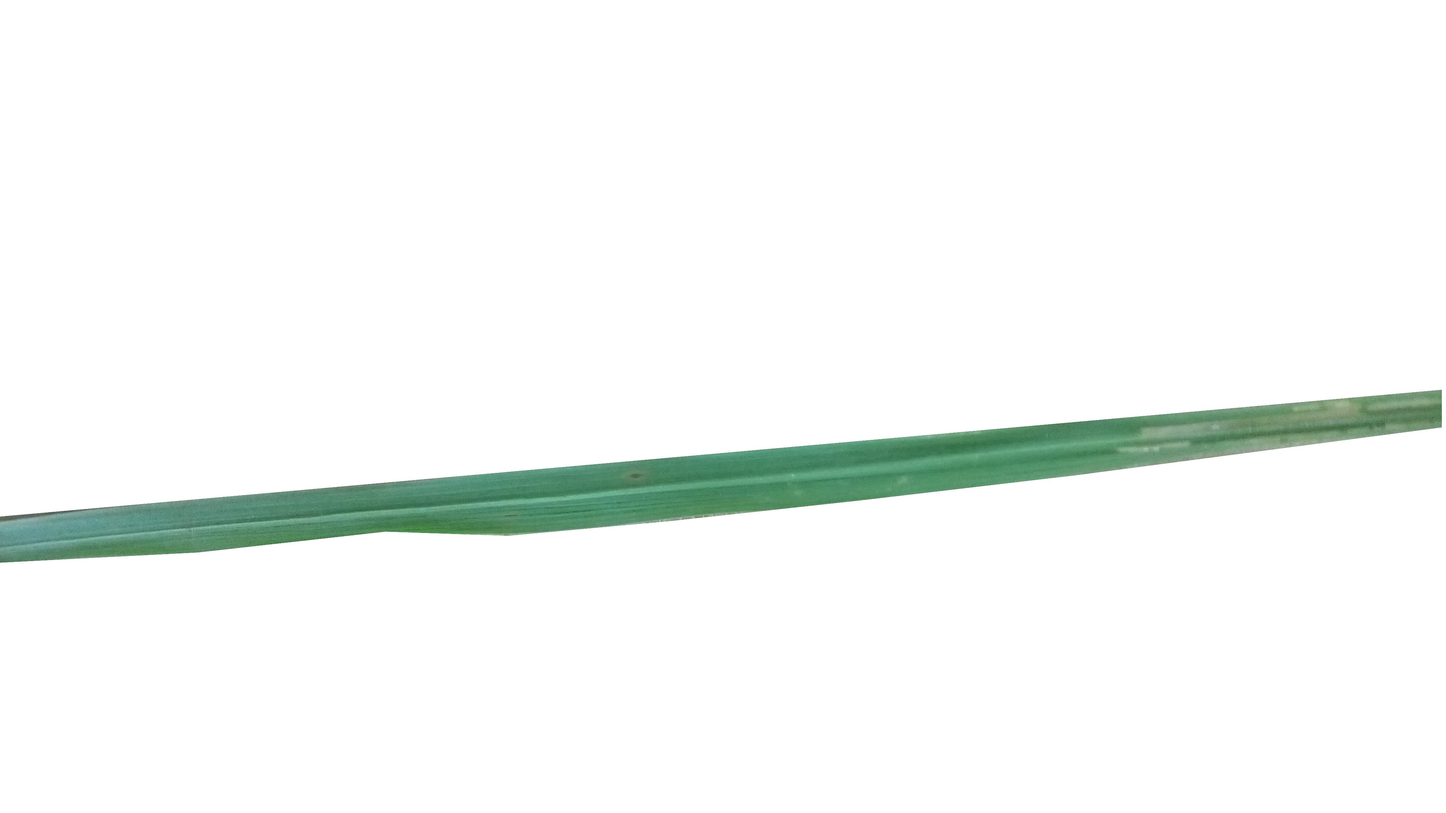Brown spot: (627, 467, 648, 486)
